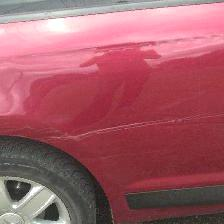door_scratch: (55, 111, 198, 153)
